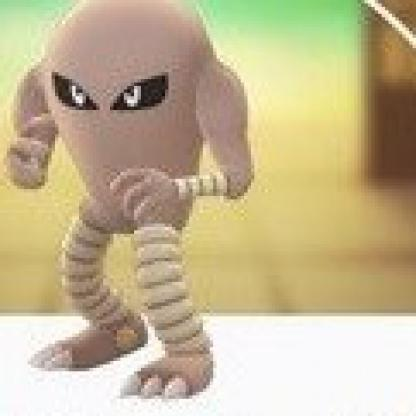Hitmonlee: (6, 1, 261, 399)
